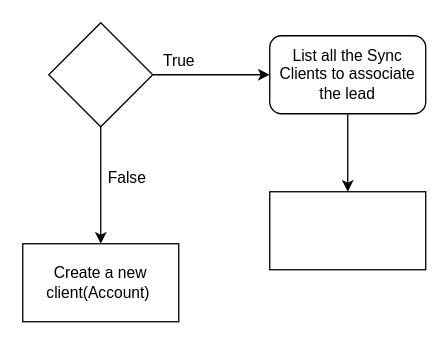
Some shapes in this 448 by 345 pixel diagram are drawn without their labels. The box of each missing label's shape, as (x1, y1, x2, y2) in pixels:
After selecting the client account create contact for that client: (268, 190, 426, 270)
is Sync Client Lead: (47, 21, 153, 127)
